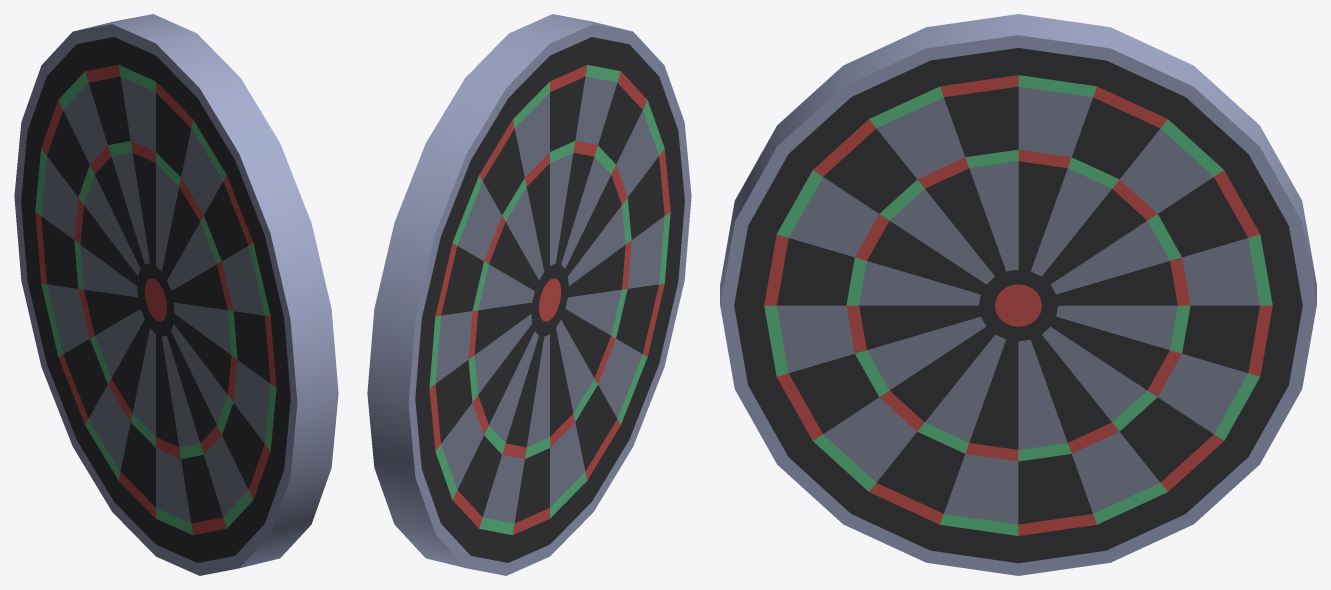
File: dartboard.fbx
3 views of the same model, side by side, from view 1: azimuth 30°, elevation 25°; view 2: azimuth 150°, elevation 25°; view 3: azimuth 270°, elevation 25° (orthographic). The views are drawn at different scales.
Visible parts, largest first — view 1: dartboard; view 2: dartboard; view 3: dartboard.
Part boxes in pixels (bbox=[...]): dartboard: bbox=[14, 14, 338, 575]; dartboard: bbox=[367, 14, 691, 575]; dartboard: bbox=[720, 14, 1316, 575].
Bounding box in the file's own units: 0.042 × 0.5 × 0.5.
